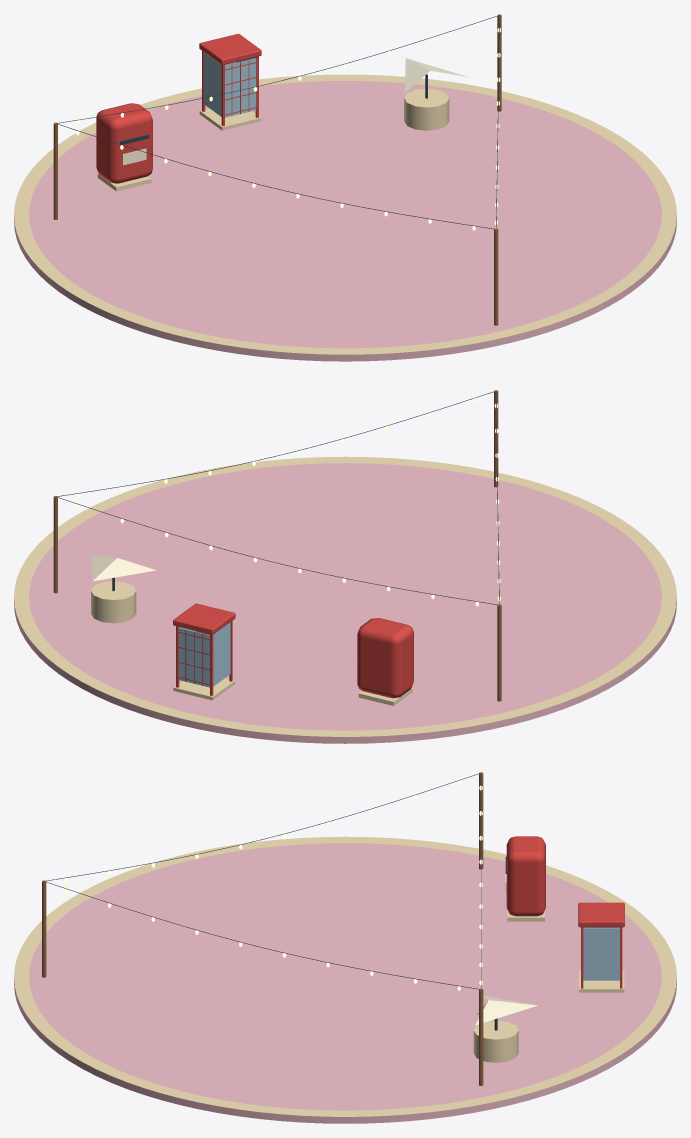
File: contact-plaza.glb
3 renders of one model, top to bottom at view 1: azimuth 30°, elevation 25°; view 2: azimuth 150°, elevation 25°; view 3: azimuth 270°, elevation 25°, orthographic.
Parts seen in each view (by area): view 1: Paving, PavingBorder, MailboxBody, Pedestal, GlassPanel, Roof, SideGlass, Floor; view 2: Paving, PavingBorder, MailboxBody, Pedestal, GlassPanel, Roof, SideGlass, Floor, LeftWing; view 3: Paving, PavingBorder, MailboxBody, SideGlass, Pedestal, Roof, RightWing, Floor.
Boxes of the visible parts, x1,y1,x2,y2 form: Paving: (14, 81, 676, 361); PavingBorder: (14, 74, 676, 354); MailboxBody: (96, 103, 152, 183); Pedestal: (404, 88, 449, 130); GlassPanel: (225, 58, 256, 117); Roof: (199, 33, 261, 64); SideGlass: (204, 52, 221, 116); Floor: (199, 108, 261, 130); Paving: (14, 463, 676, 743); PavingBorder: (14, 456, 676, 736); MailboxBody: (357, 618, 413, 698); Pedestal: (91, 581, 136, 623); GlassPanel: (178, 628, 209, 687); Roof: (173, 603, 235, 634); SideGlass: (213, 622, 230, 686); Floor: (173, 678, 235, 700); LeftWing: (93, 558, 155, 581); Paving: (14, 843, 676, 1123); PavingBorder: (14, 836, 676, 1116); MailboxBody: (506, 836, 545, 916); SideGlass: (583, 928, 619, 980); Pedestal: (473, 1020, 518, 1062); Roof: (578, 902, 624, 927); RightWing: (475, 1000, 537, 1025); Floor: (579, 970, 624, 992).
Bounding box in the file's own units: 44 × 7.52 × 44.
